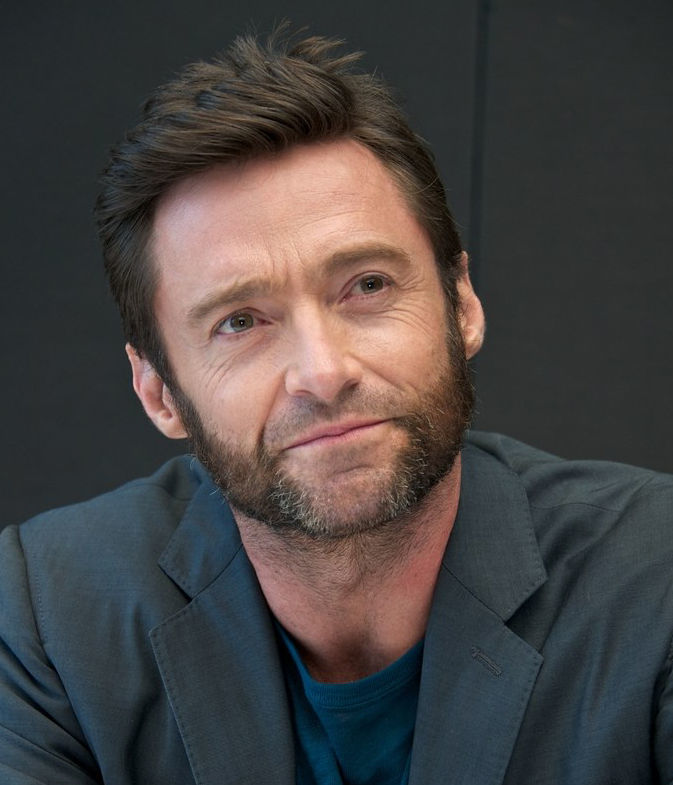beard: (171, 376, 483, 542)
